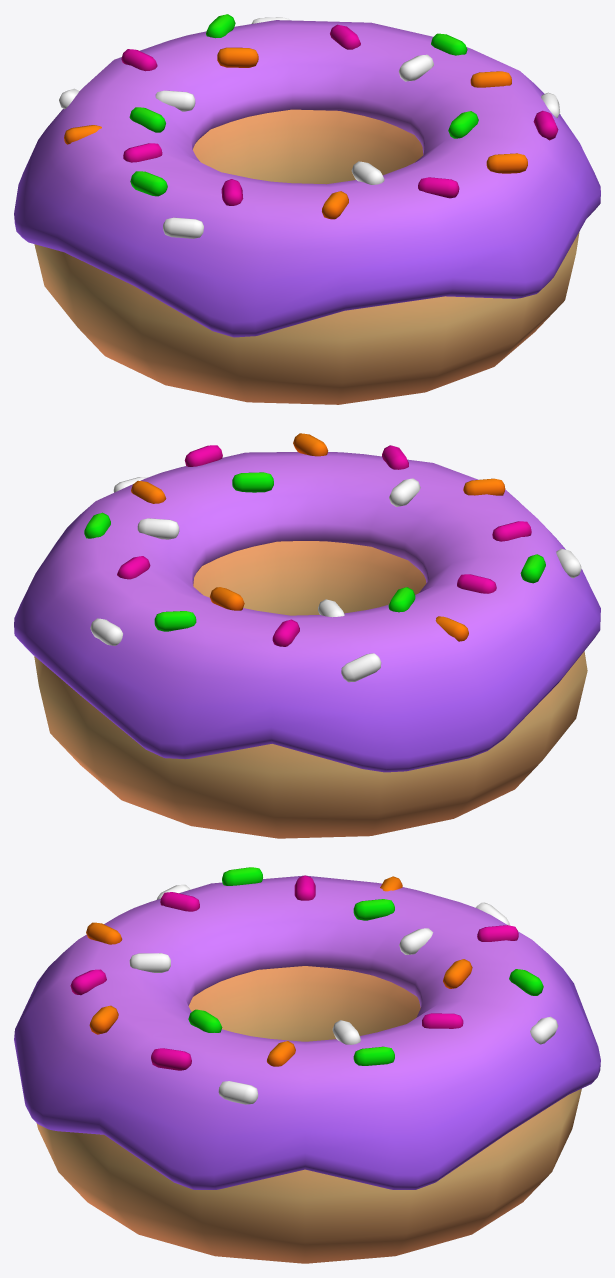
File: Donut_V3_01.fbx
The picture shows the model from 3 angles, top to bottom: view 1: azimuth 30°, elevation 25°; view 2: azimuth 150°, elevation 25°; view 3: azimuth 270°, elevation 25°; orthographic projection.
Visible parts, largest first — view 1: Donut_V3_01; view 2: Donut_V3_01; view 3: Donut_V3_01.
Part boxes in pixels (x1,y1,x2,y2): Donut_V3_01: [14, 14, 600, 404]; Donut_V3_01: [14, 433, 600, 838]; Donut_V3_01: [14, 867, 600, 1263].
Size of the model in its own units: 42.64 by 17.41 by 42.95.
